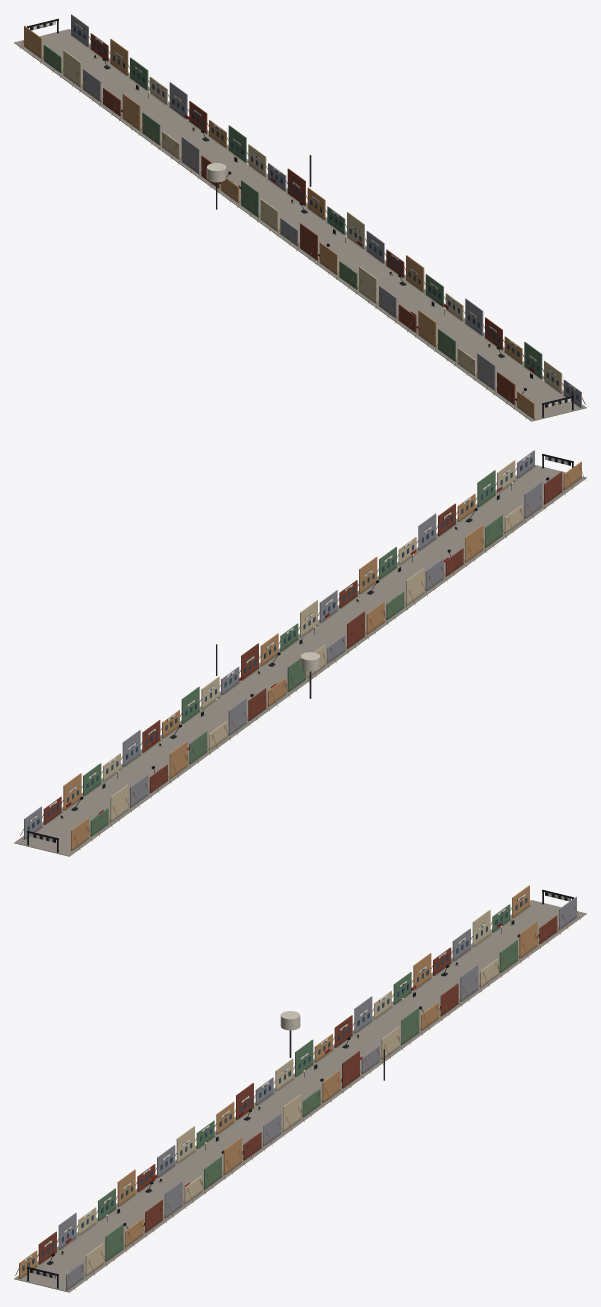
File: plato_cine.glb
3 views of the same model, one above another, from view 1: azimuth 30°, elevation 25°; view 2: azimuth 150°, elevation 25°; view 3: azimuth 330°, elevation 25° (orthographic).
Visible parts, largest first — view 1: plato_cine; view 2: plato_cine; view 3: plato_cine.
Part boxes in pixels (x1,y1,x2,y2): plato_cine: (14,14,586,421); plato_cine: (14,450,586,856); plato_cine: (14,885,586,1292).
Size of the model in its own units: 48.26 by 19.2 by 420.
1 material, 1 textured.
